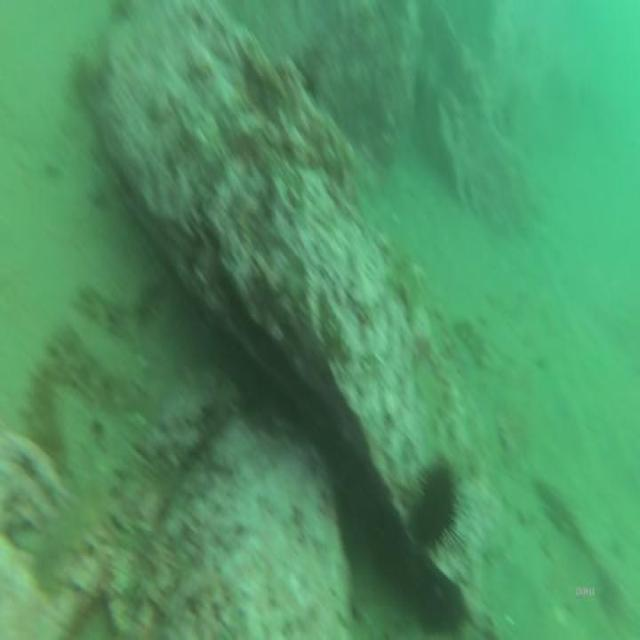echinus: (411, 447, 471, 564)
holothurian: (48, 314, 142, 424), (30, 484, 102, 583), (76, 270, 168, 340), (28, 364, 66, 484)
